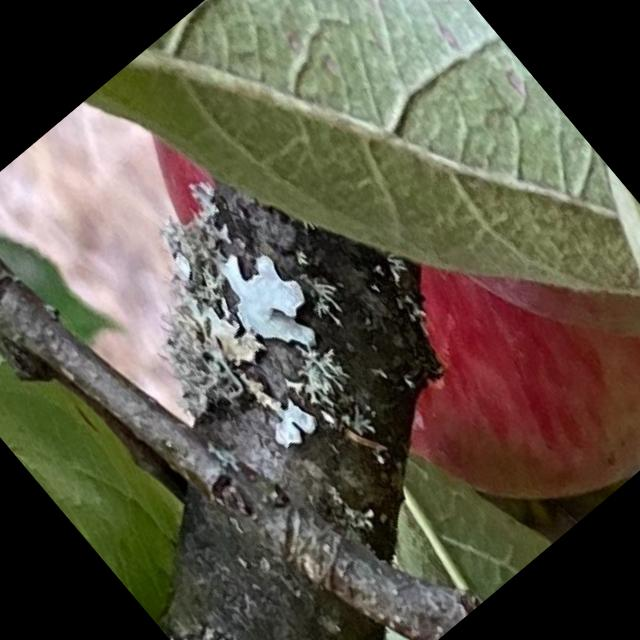Apples: (123, 0, 639, 593)
